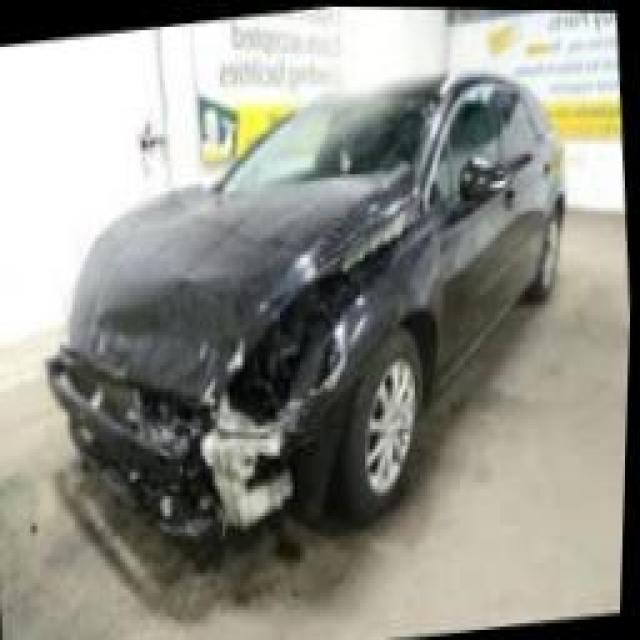Bonnet: (52, 163, 416, 396)
Bumper: (38, 354, 312, 541)
Fender: (285, 226, 443, 447)
Light: (222, 307, 334, 416)
